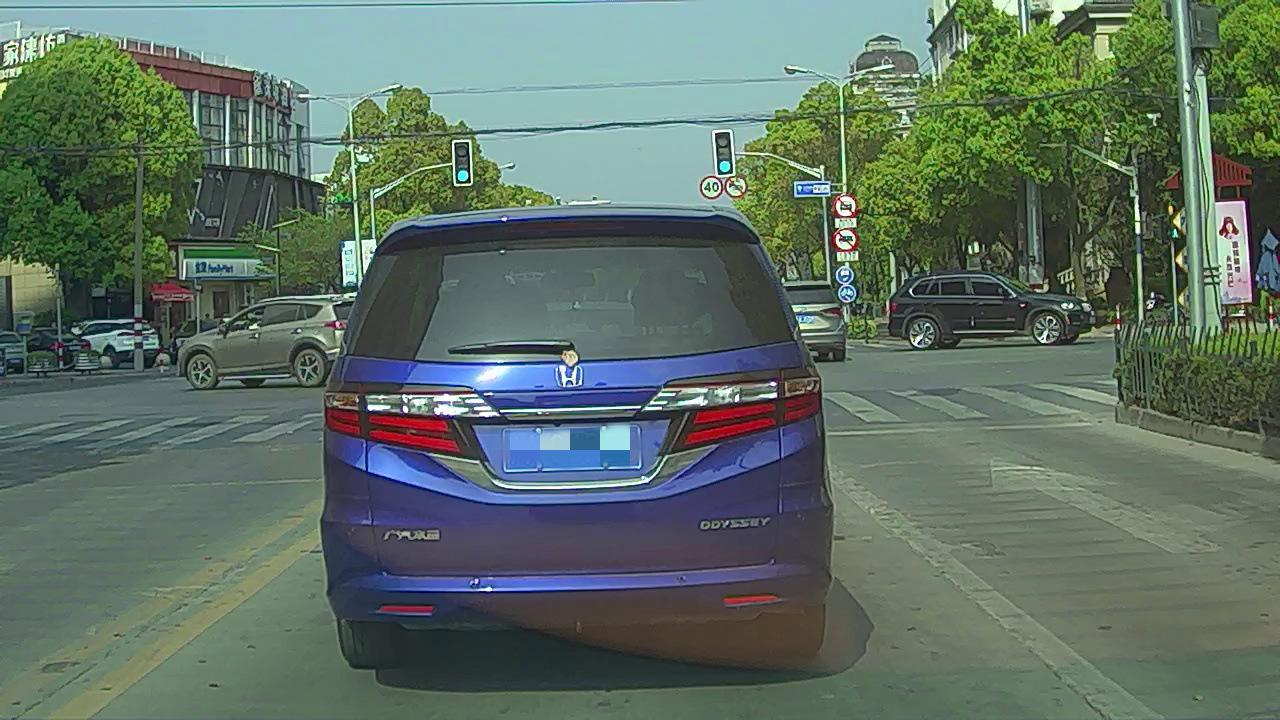traffic_light: (714, 131, 733, 174), (454, 140, 471, 183)
